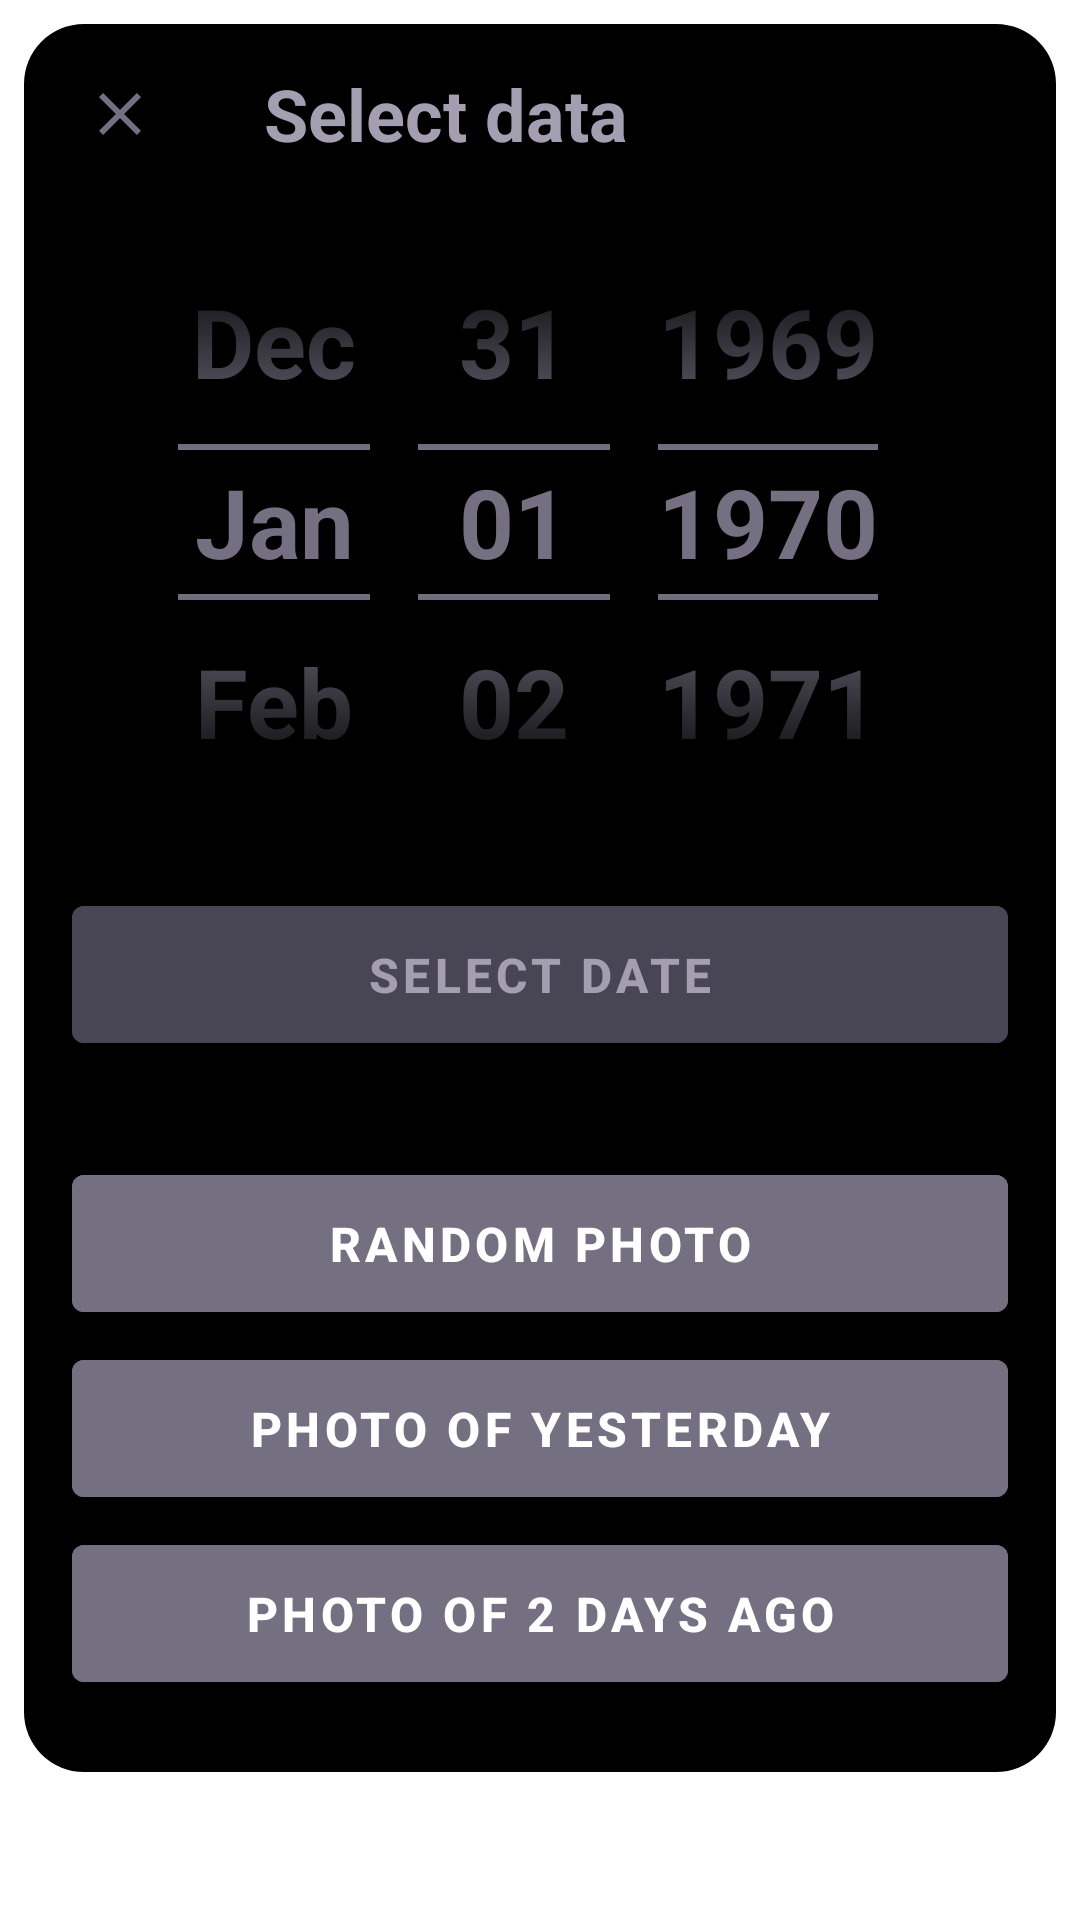

Point at icon controls on the screen. Image size 1080x1920, points as point (x, y).
close: point (120, 114)
